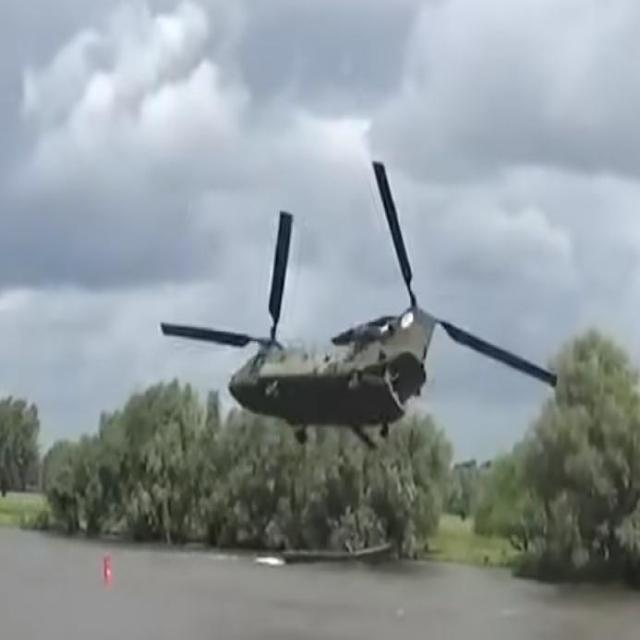Helicopter: (151, 192, 540, 446)
